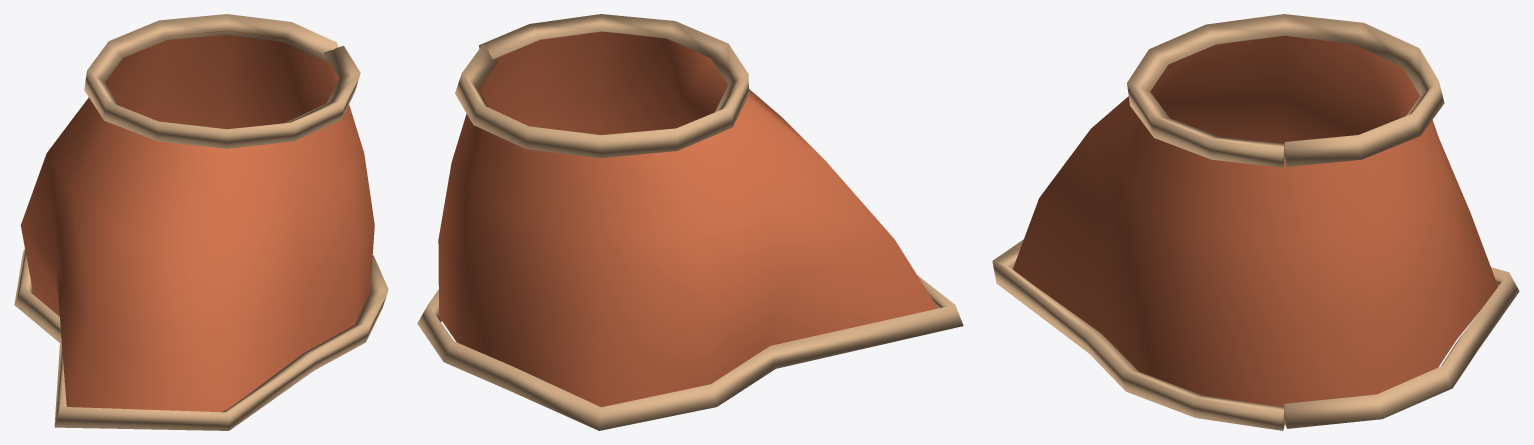
The model's file is palladium_armor_pauldron.R.glb.
The picture shows the model from 3 angles, left to right: view 1: azimuth 30°, elevation 25°; view 2: azimuth 150°, elevation 25°; view 3: azimuth 270°, elevation 25°; orthographic projection. The views are drawn at different scales.
Parts seen in each view (by area): view 1: palladium_armor_pauldron.R; view 2: palladium_armor_pauldron.R; view 3: palladium_armor_pauldron.R.
Part boxes in pixels (x1,y1,x2,y2): palladium_armor_pauldron.R: (14, 14, 388, 430); palladium_armor_pauldron.R: (417, 14, 963, 430); palladium_armor_pauldron.R: (992, 14, 1519, 430).
Size of the model in its own units: 0.2897 by 0.1646 by 0.2886.
